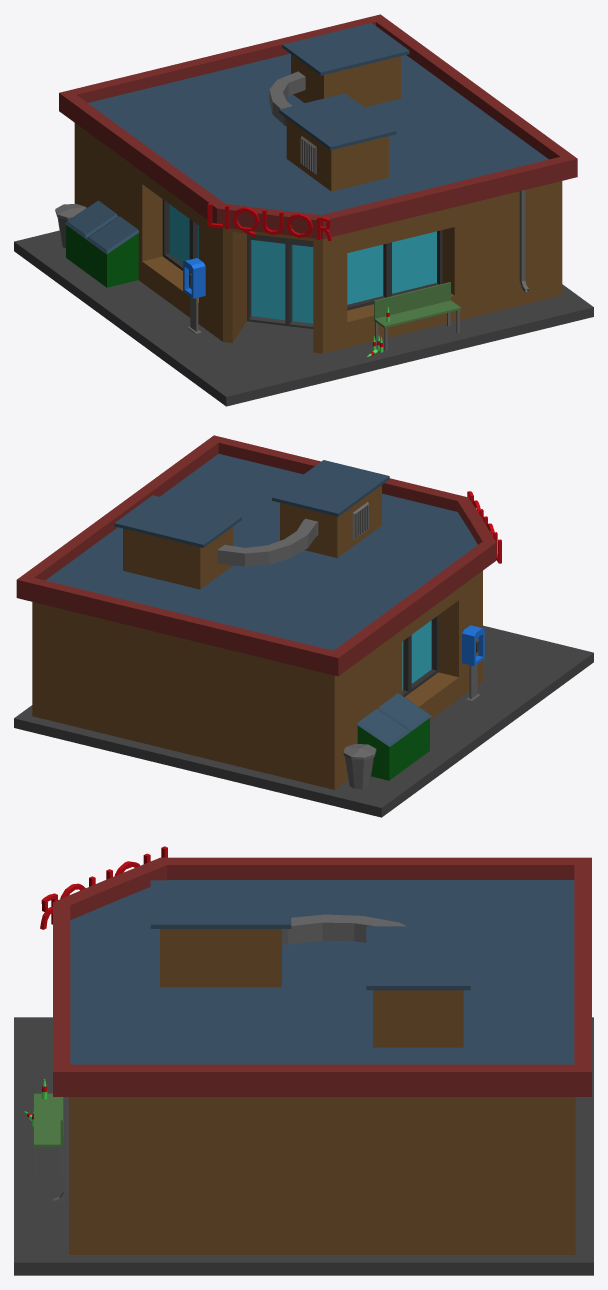
The model's file is Liquor Store.fbx.
The picture shows the model from 3 angles, top to bottom: view 1: azimuth 30°, elevation 25°; view 2: azimuth 150°, elevation 25°; view 3: azimuth 270°, elevation 25°; orthographic projection. The views are drawn at different scales.
Visible parts, largest first — view 1: MAG_T1_4_PERRONE_01.001, MAG_T1_4_PERRONE_01; view 2: MAG_T1_4_PERRONE_01.001, MAG_T1_4_PERRONE_01; view 3: MAG_T1_4_PERRONE_01.001, MAG_T1_4_PERRONE_01.
Boxes of the visible parts, x1,y1,x2,y2 form: MAG_T1_4_PERRONE_01.001: (55,14,577,356); MAG_T1_4_PERRONE_01: (14,230,593,406); MAG_T1_4_PERRONE_01.001: (16,435,501,789); MAG_T1_4_PERRONE_01: (14,625,593,817); MAG_T1_4_PERRONE_01.001: (24,846,591,1254); MAG_T1_4_PERRONE_01: (14,1017,593,1275).
Size of the model in its own units: 200 by 96.24 by 200.
